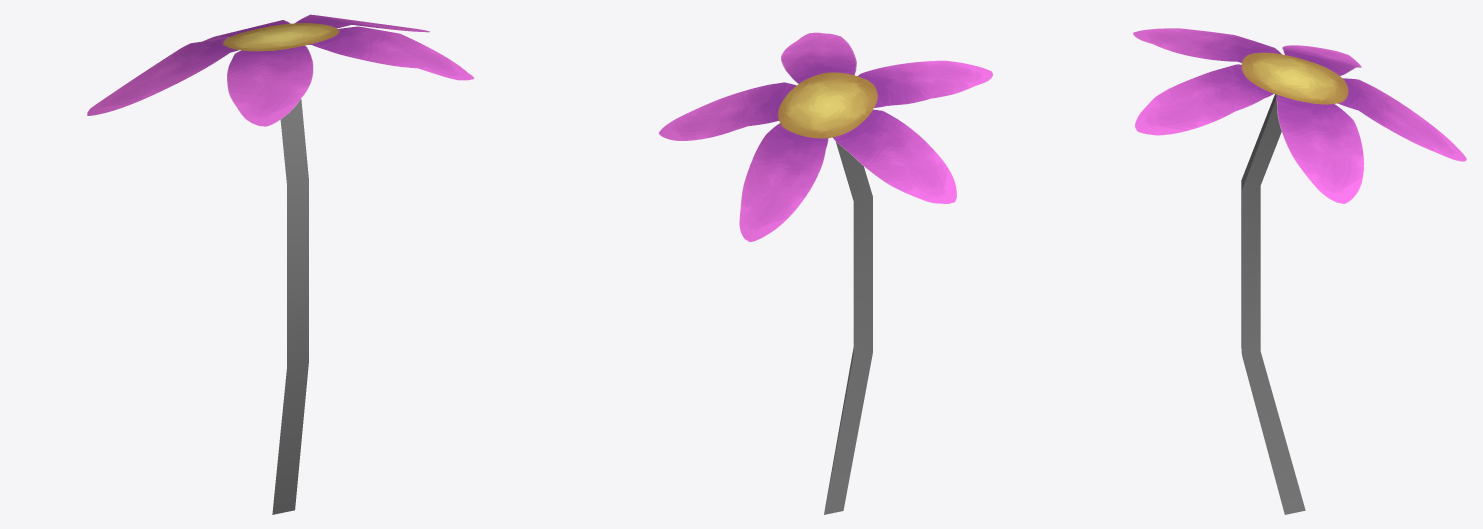
File: flower2.fbx
3 views of the same model, side by side, from view 1: azimuth 30°, elevation 25°; view 2: azimuth 150°, elevation 25°; view 3: azimuth 270°, elevation 25° (orthographic). The views are drawn at different scales.
Parts seen in each view (by area): view 1: flower, pCylinder7; view 2: flower, pCylinder7; view 3: flower, pCylinder7.
Boxes of the visible parts, <box> form: flower: <box>87,14,474,126</box>; pCylinder7: <box>272,99,308,514</box>; flower: <box>658,32,993,242</box>; pCylinder7: <box>824,141,872,514</box>; flower: <box>1133,28,1466,203</box>; pCylinder7: <box>1241,94,1305,514</box>.
Bounding box in the file's own units: 0.00549 × 0.00718 × 0.00538.
